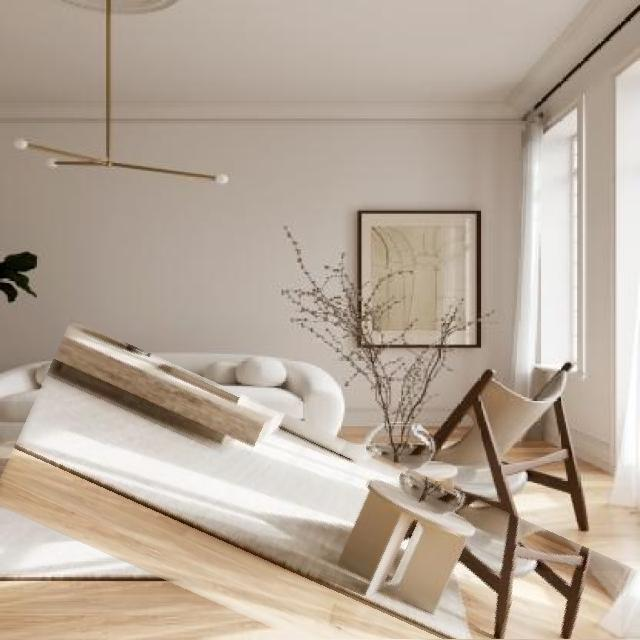floor: (0, 360, 497, 640), (500, 572, 621, 640)
